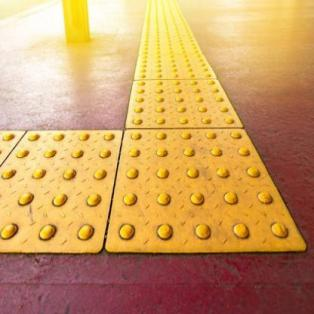Podoctatil: (2, 6, 307, 251)
